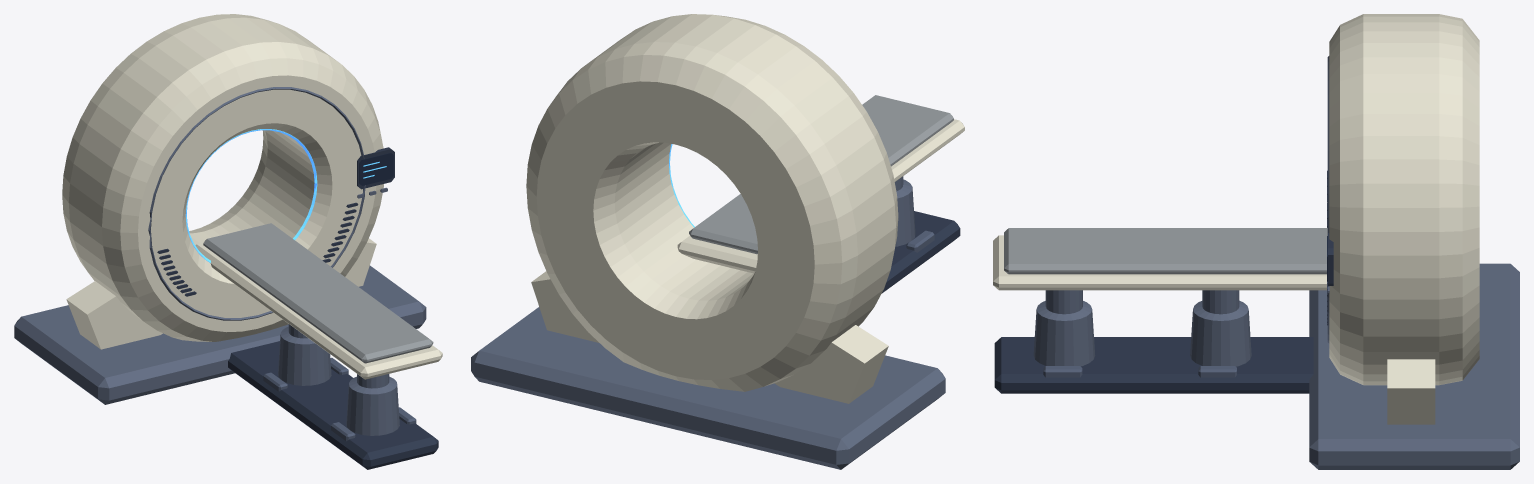
File: bw_resonance_scanner.glb
3 views of the same model, side by side, from view 1: azimuth 30°, elevation 25°; view 2: azimuth 150°, elevation 25°; view 3: azimuth 270°, elevation 25° (orthographic). The views are drawn at different scales.
Visible parts, largest first — view 1: couch, front_seam, patient_pad, bezel, track_shoe, instrument_glass, bore_light; view 2: couch, front_seam, patient_pad, bezel; view 3: couch, front_seam, patient_pad, bezel, track_shoe.
Part boxes in pixels (x1,y1,x2,y2): couch: (62, 14, 442, 379); front_seam: (14, 87, 426, 435); patient_pad: (203, 223, 433, 363); bezel: (157, 147, 438, 469); track_shoe: (263, 357, 416, 441); instrument_glass: (359, 153, 393, 185); bore_light: (185, 129, 386, 262); couch: (526, 14, 964, 403); front_seam: (471, 176, 945, 469); patient_pad: (689, 95, 953, 254); bezel: (882, 211, 960, 293); couch: (993, 14, 1479, 424); front_seam: (1033, 56, 1519, 469); patient_pad: (1004, 228, 1327, 274); bezel: (994, 170, 1333, 393); track_shoe: (1043, 366, 1236, 377).
Size of the model in its own units: 2.8 by 2.5 by 3.4.
